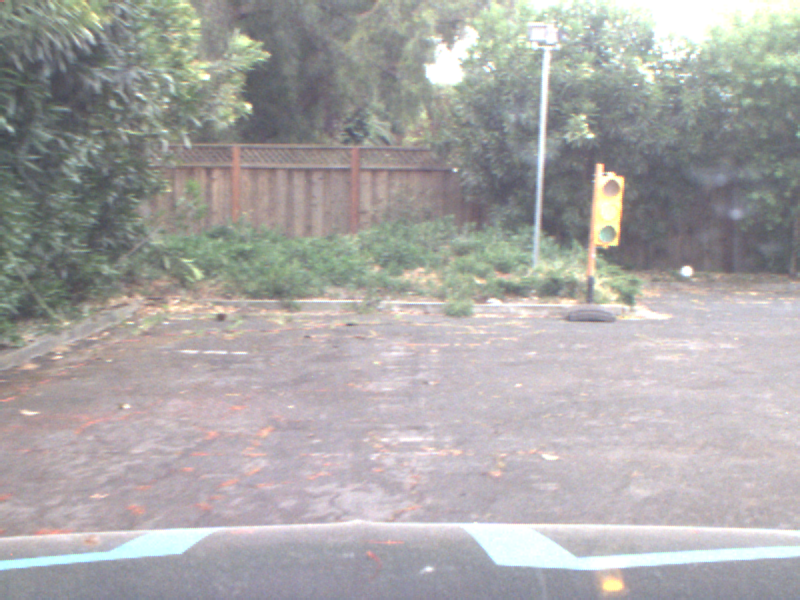Yellow: (593, 171, 619, 247)
